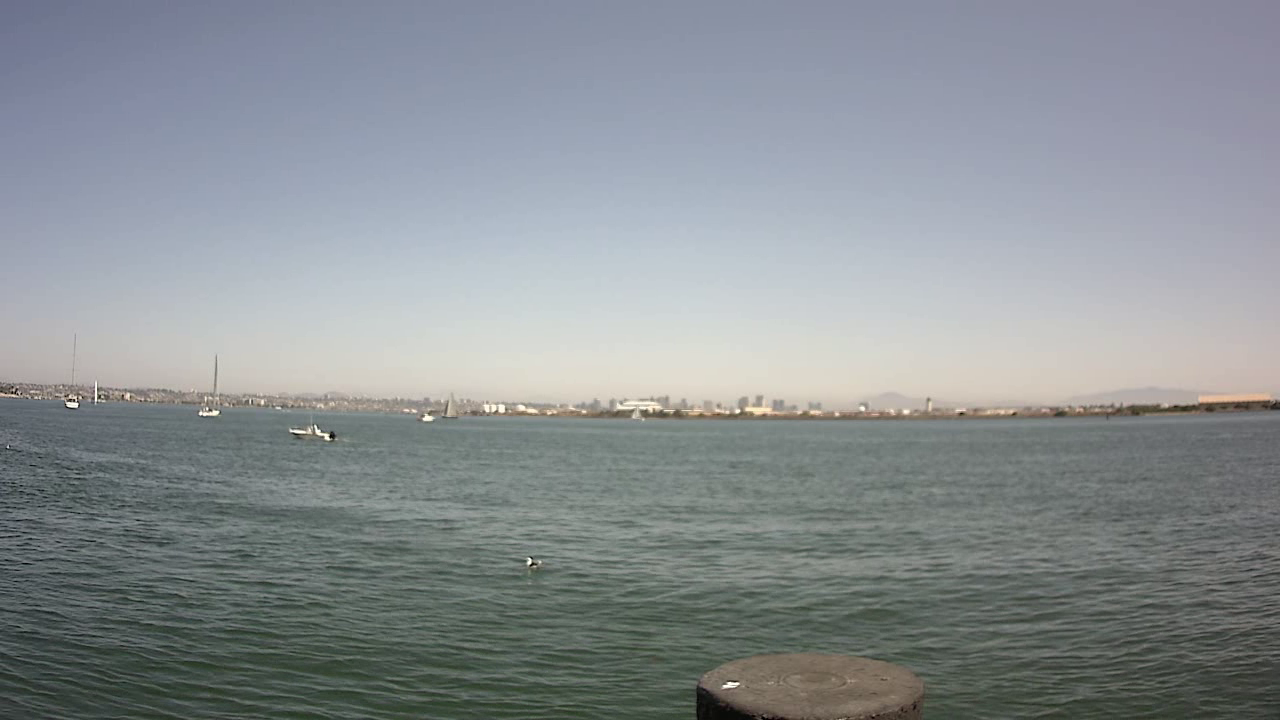target: (282, 412, 343, 450)
